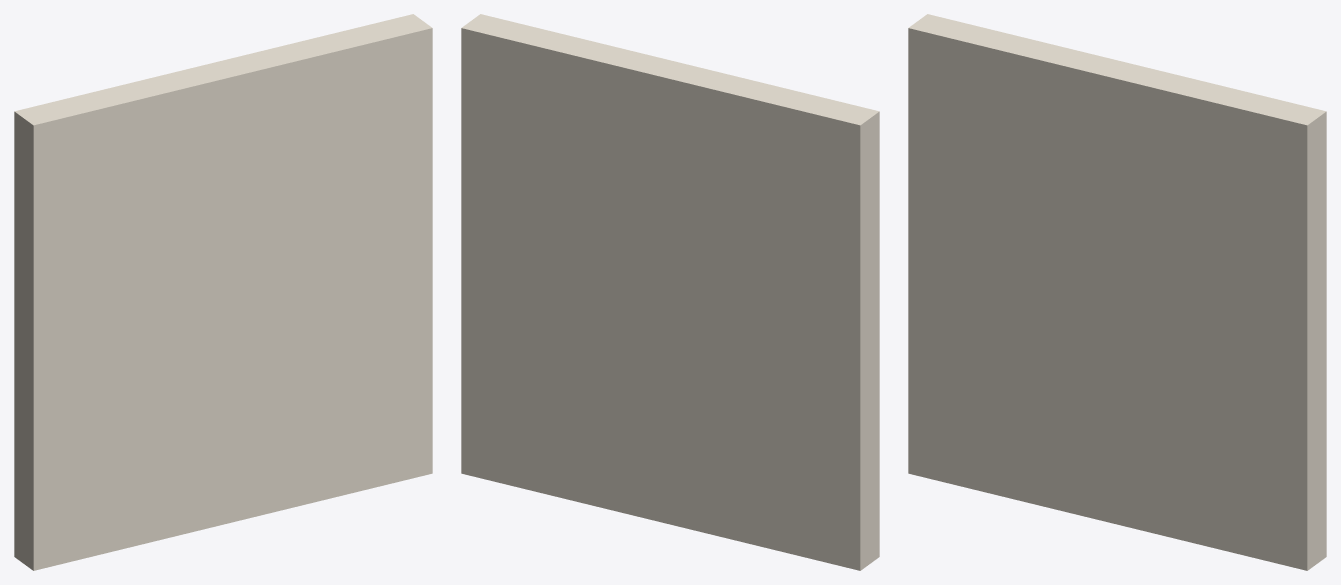
Rendered from bh_villa_wall_solid_01_lod0.glb.
3 views of the same model, side by side, from view 1: azimuth 30°, elevation 25°; view 2: azimuth 150°, elevation 25°; view 3: azimuth 330°, elevation 25° (orthographic).
Visible parts, largest first — view 1: bh_villa_wall_solid_01_mesh_lod0; view 2: bh_villa_wall_solid_01_mesh_lod0; view 3: bh_villa_wall_solid_01_mesh_lod0.
Boxes of the visible parts, x1,y1,x2,y2 form: bh_villa_wall_solid_01_mesh_lod0: (14, 14, 432, 570); bh_villa_wall_solid_01_mesh_lod0: (461, 14, 879, 570); bh_villa_wall_solid_01_mesh_lod0: (908, 14, 1326, 570).
Size of the model in its own units: 3 by 3.2 by 0.25.
